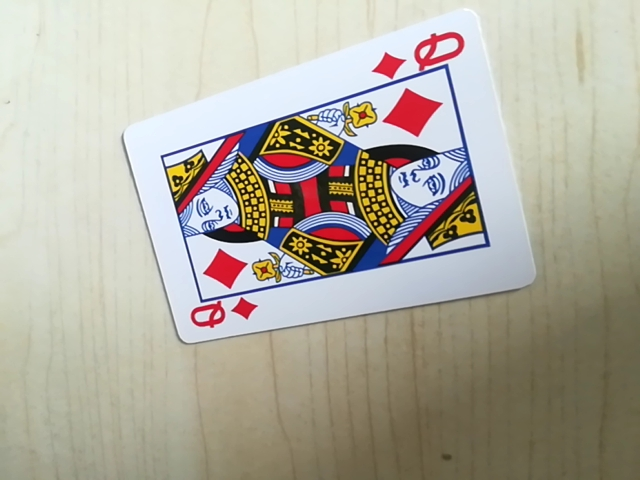fk q: (374, 26, 470, 85), (185, 293, 261, 339)
